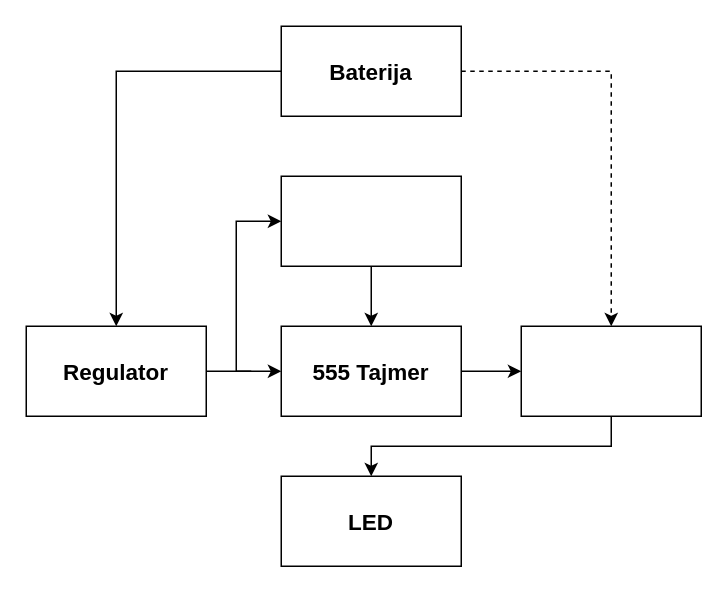
The diagram is 728 pixels wide and 593 high, and some of its shapes have lost their labels. The shapes that lost their labels are listed below. From the top down, each one's box as (x1, y1, x2, y2) in pixels, then its label:
(280, 175, 461, 266): PIR Senzor
(520, 325, 701, 416): Drajver LED Dioda
